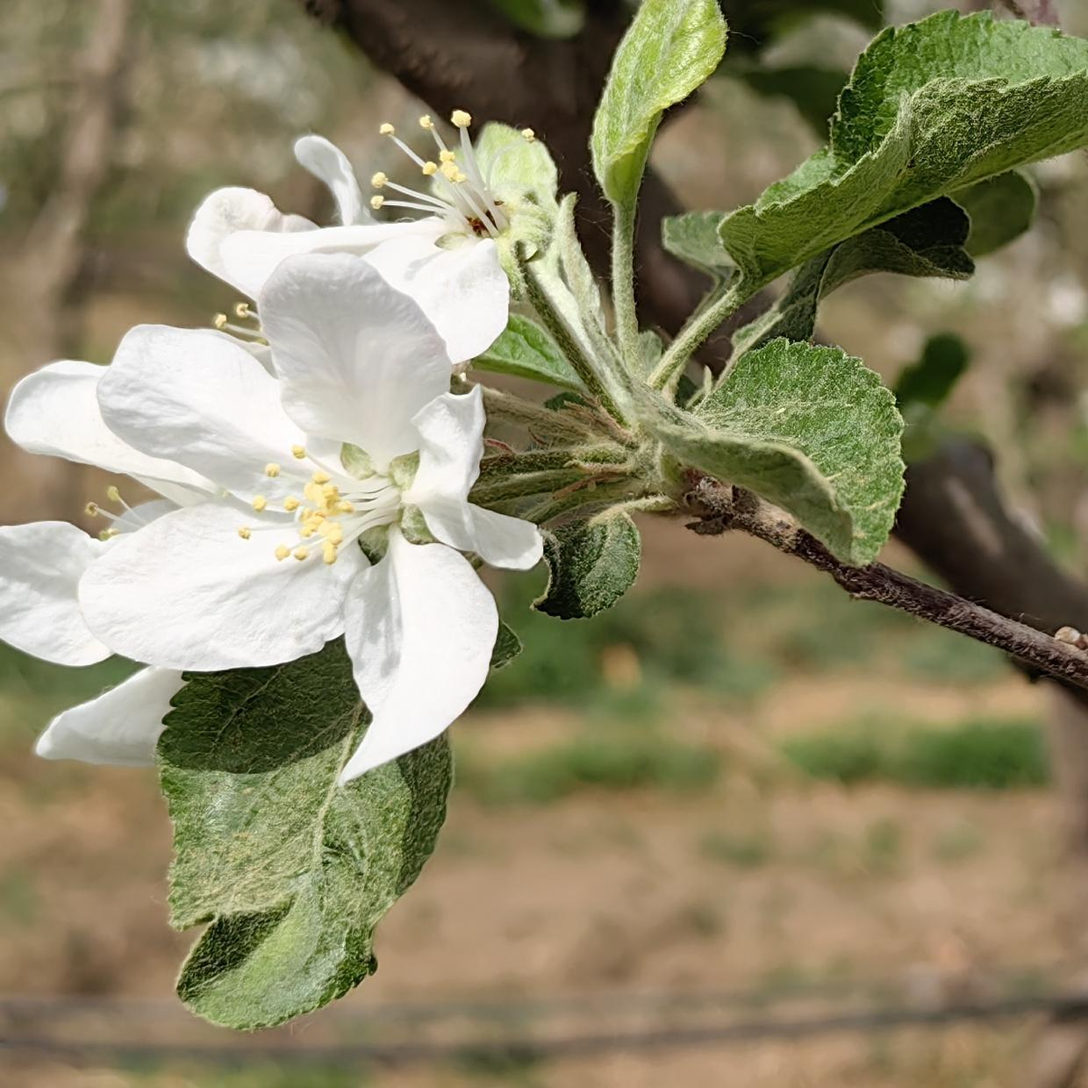apple_flower: (0, 137, 542, 774)
